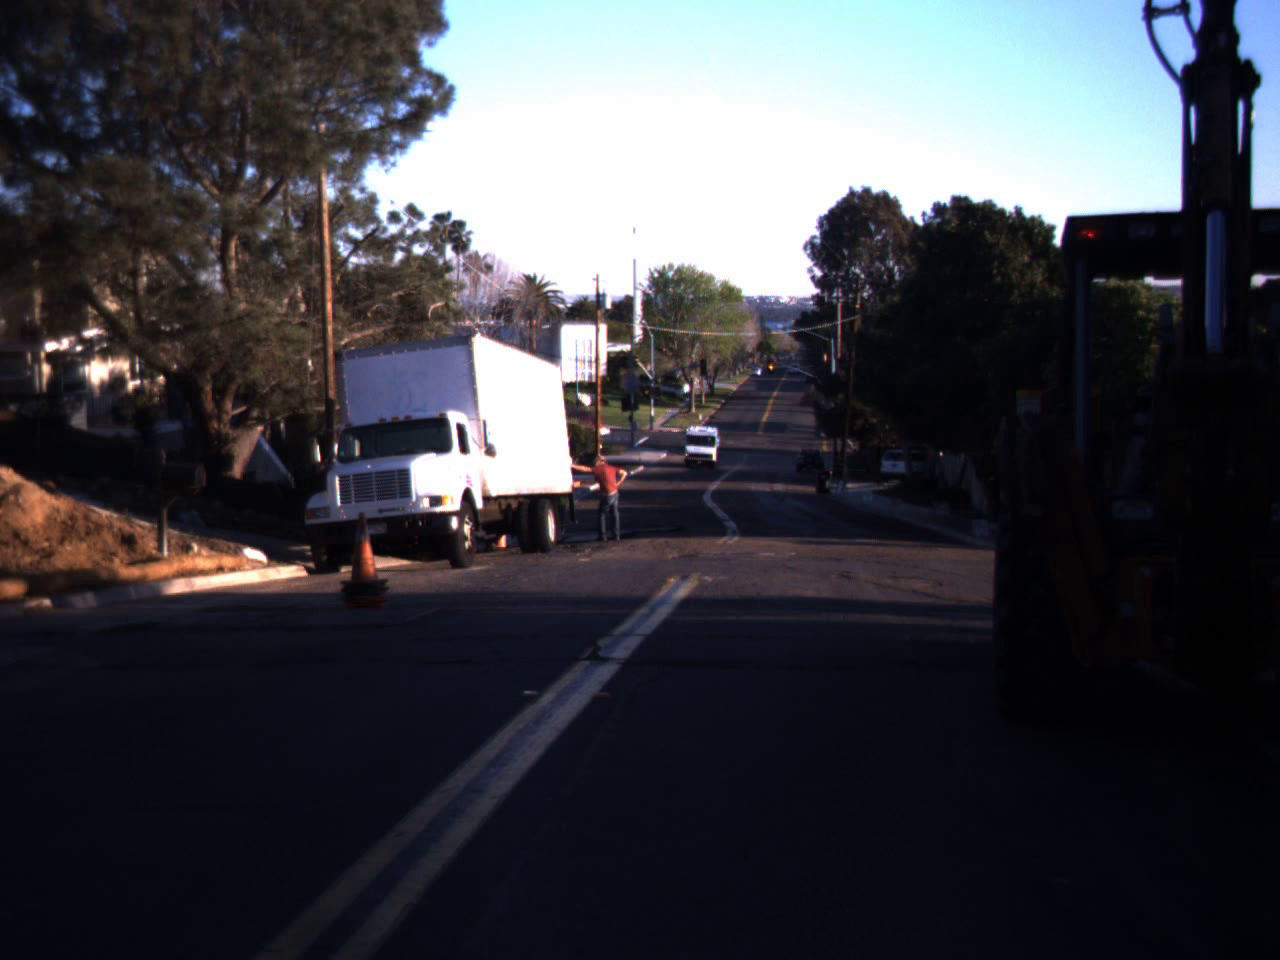warning: (637, 376, 655, 403)
